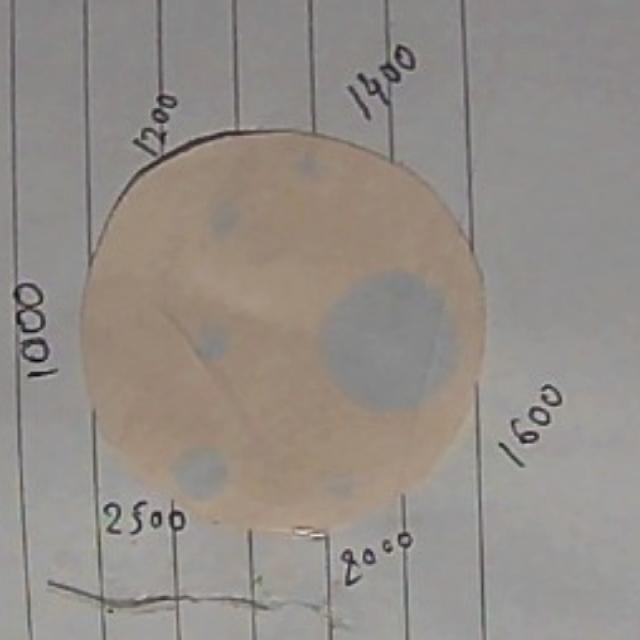BlueColor: (323, 271, 458, 411), (174, 449, 227, 500), (195, 324, 229, 360), (212, 203, 241, 237), (297, 151, 322, 177), (323, 475, 352, 497)
